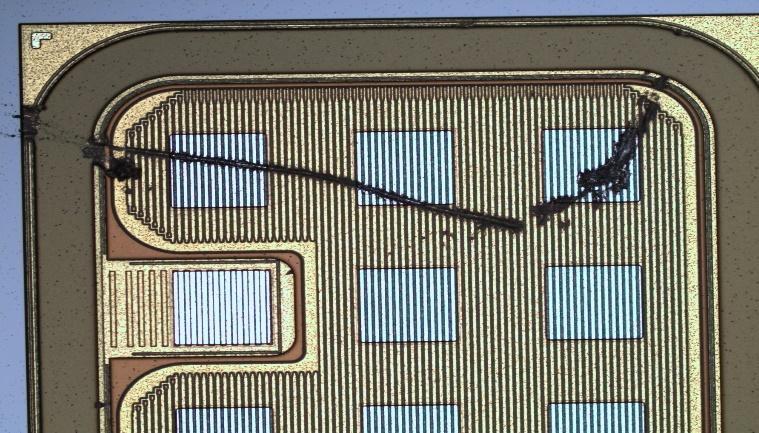SCRATCH: (1, 15, 702, 247)
